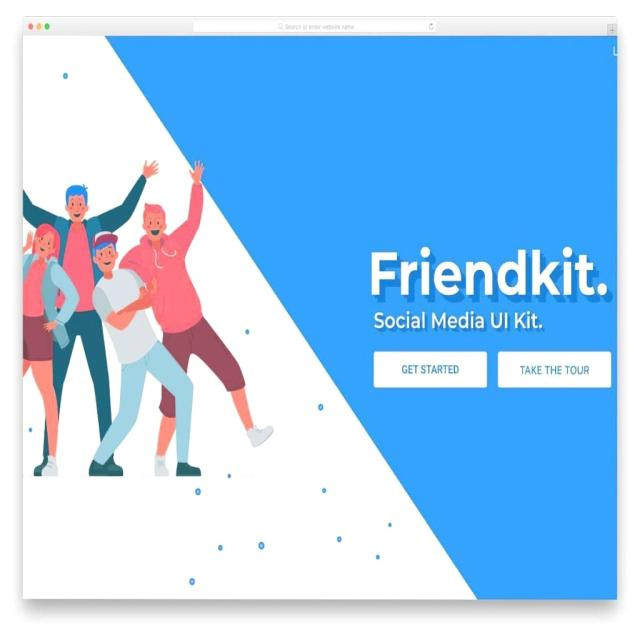button: (374, 351, 487, 387), (499, 353, 612, 388)
